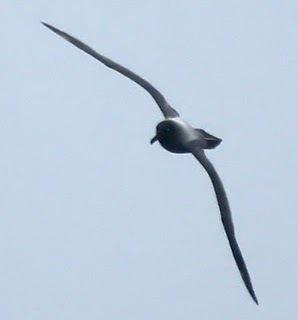003.Sooty_Albatross: (38, 18, 261, 305)
